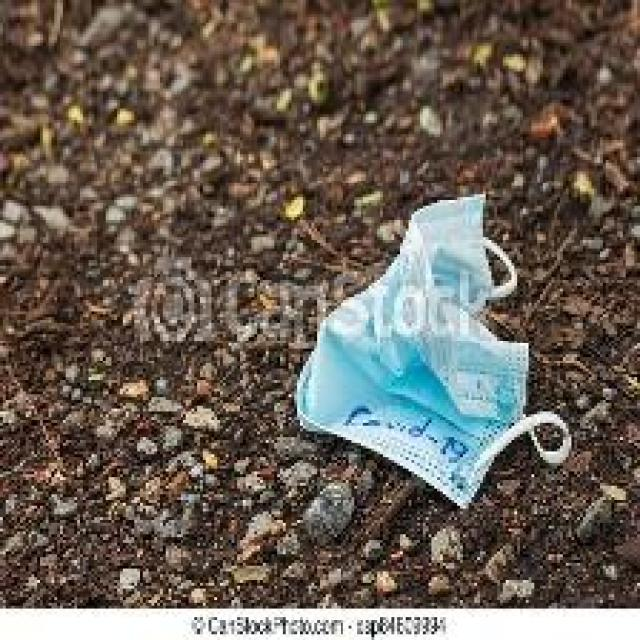Mask: (287, 202, 572, 508)
